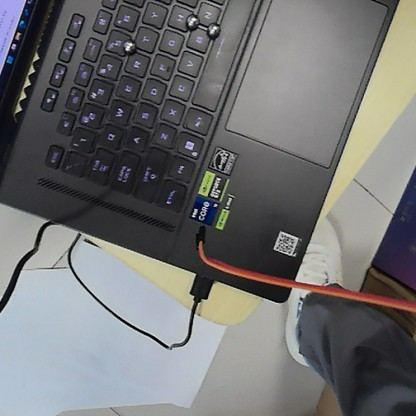ironball: (183, 11, 200, 31), (120, 37, 137, 54), (205, 21, 221, 37)
